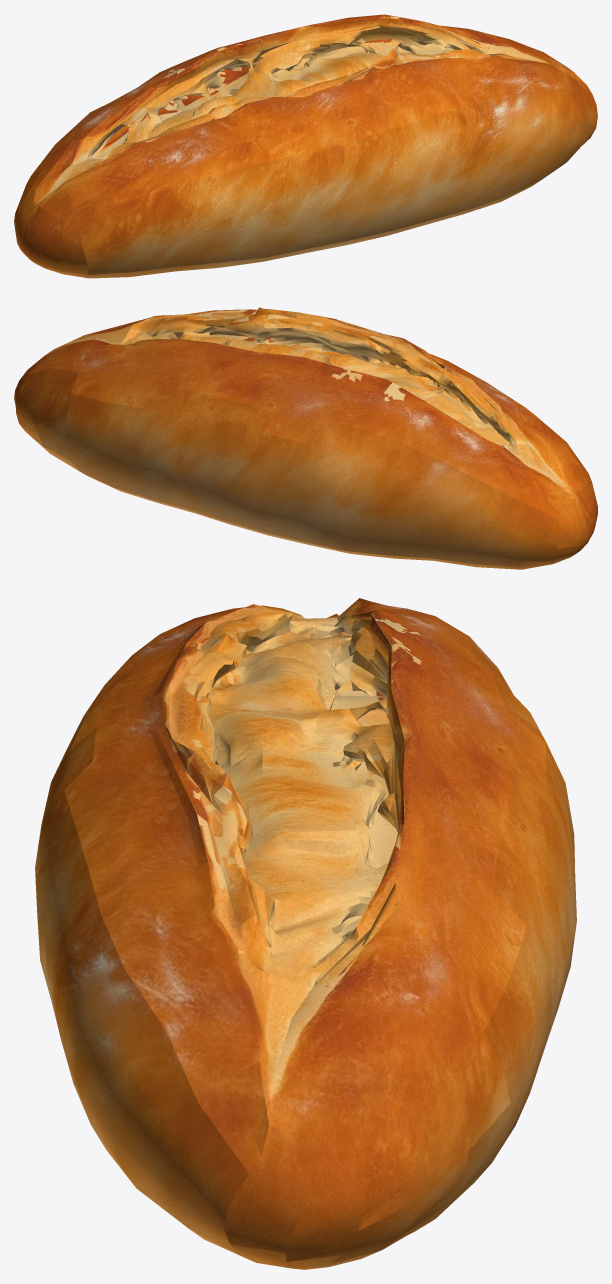
File: ekmek-somun.glb
3 views of the same model, one above another, from view 1: azimuth 30°, elevation 25°; view 2: azimuth 150°, elevation 25°; view 3: azimuth 270°, elevation 25° (orthographic). The views are drawn at different scales.
Parts seen in each view (by area): view 1: Mesh0; view 2: Mesh0; view 3: Mesh0.
Part boxes in pixels (x1=…): Mesh0: x1=14, y1=14, x2=597, y2=278; Mesh0: x1=14, y1=307, x2=597, y2=569; Mesh0: x1=35, y1=598, x2=576, y2=1269.
Bounding box in the file's own units: 1.9 × 0.526 × 0.7902.
Materials: 1 (1 with a texture image).
